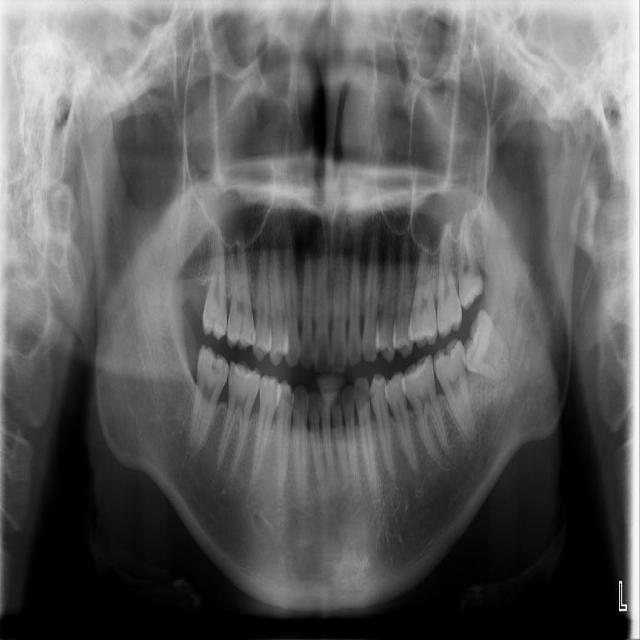impacted tooth: (461, 310, 516, 382)
